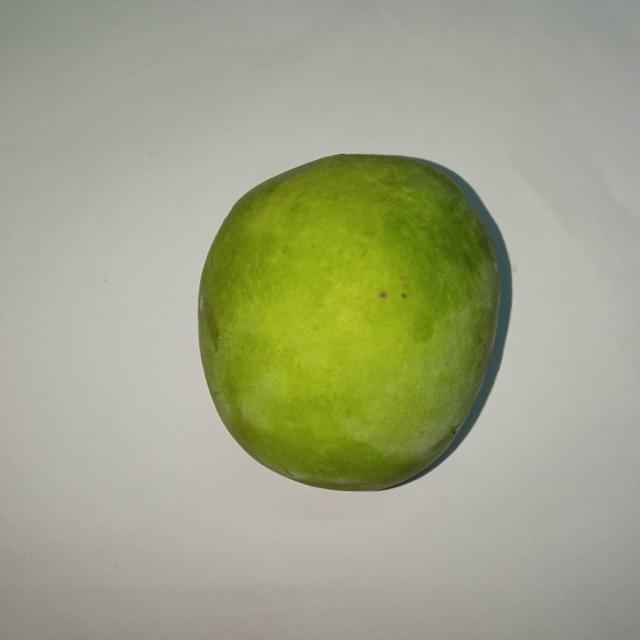fresh_mango: (197, 152, 501, 490)
